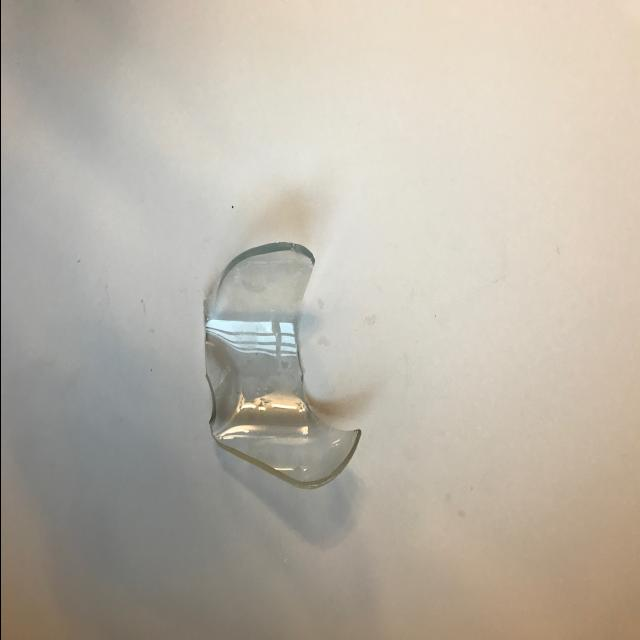glass: (198, 222, 364, 493)
